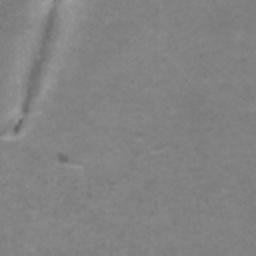Finishing roll printing: (13, 0, 61, 134), (57, 153, 69, 163)
